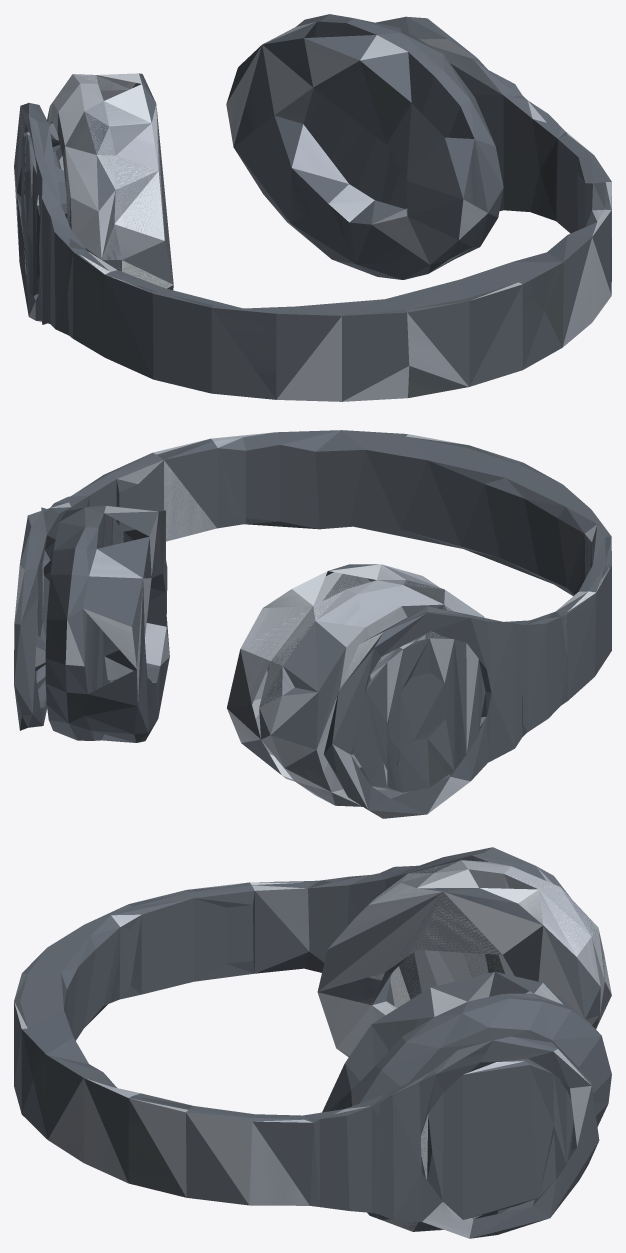
Rendered from model_align.obj.
3 views of the same model, one above another, from view 1: azimuth 30°, elevation 25°; view 2: azimuth 150°, elevation 25°; view 3: azimuth 270°, elevation 25° (orthographic).
Bounding box in the file's own units: 0.1265 × 0.0545 × 0.1325.
10 materials, 10 textured.
